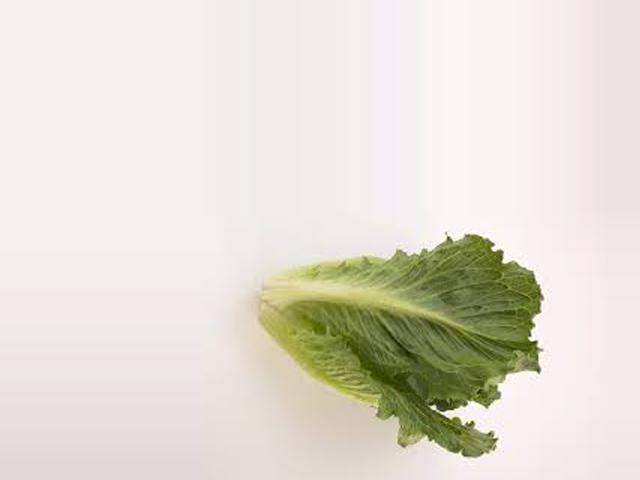lettuce: (222, 227, 550, 445)
